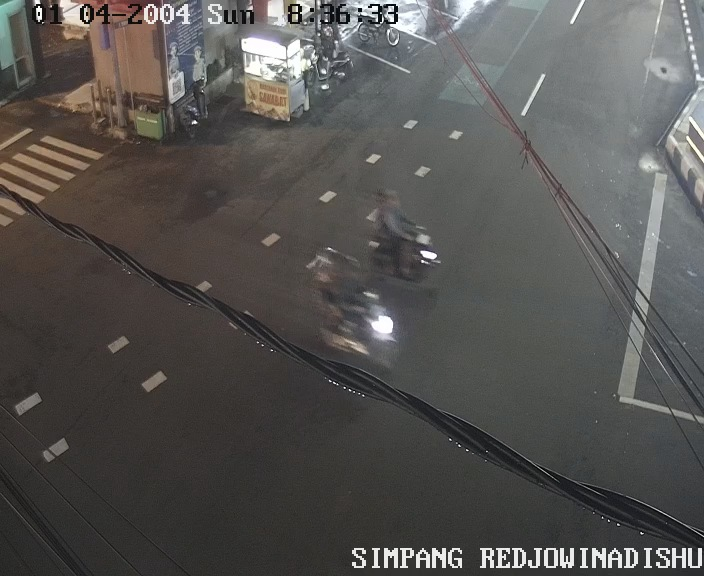Gerobak: (240, 31, 307, 123)
